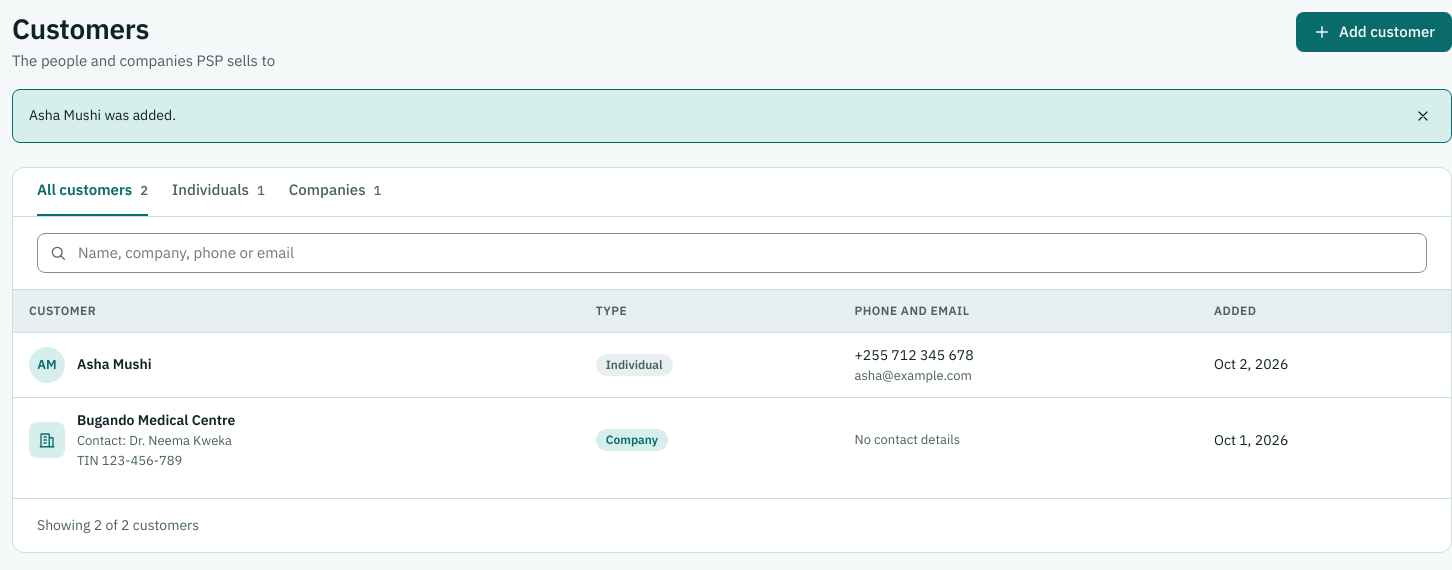
Test: CustomersList › links to Add customer and to each customer, and shows the notice from the form
This screenshot has width=1452, height=570.
Expected: the message reads "Asha Mushi was added.", [29,106,176,124]
Click the button named "Dismiss message". click: (1423, 116)
box: [1407,100,1439,132]
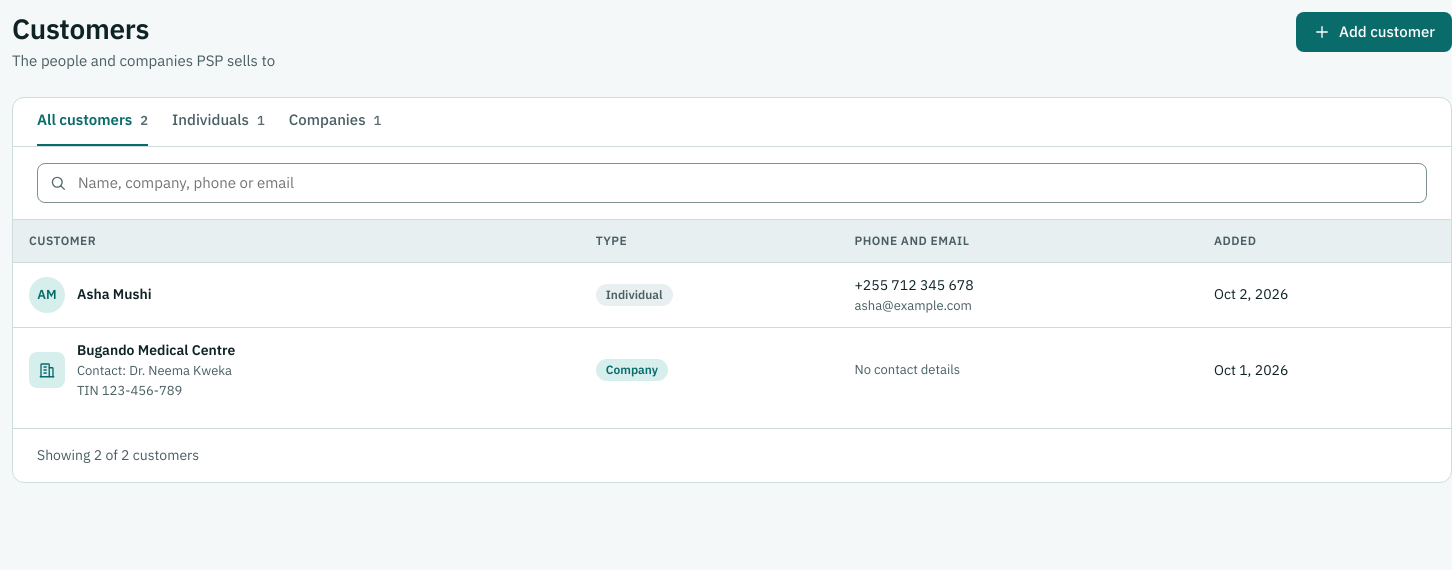
Expected: the text "Asha Mushi was added." is gone
